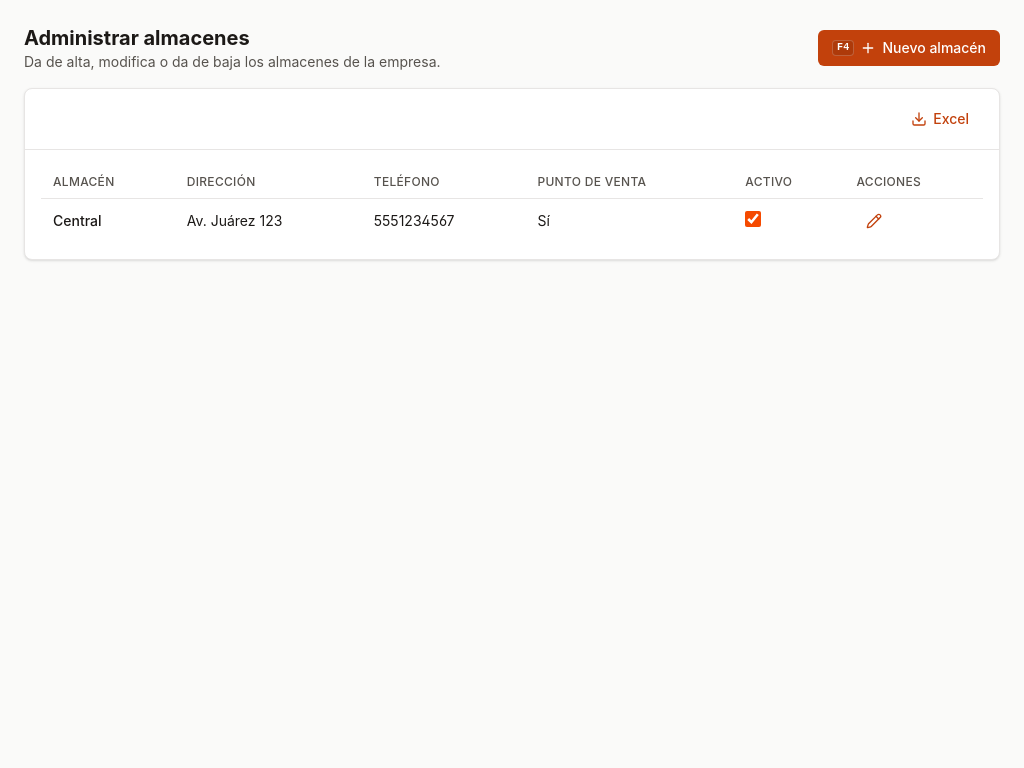
Test: AlmacenesAdminPage (smoke) › 'Nuevo almacén' abre el diálogo de alta
Check: the text "Central" is shown, box [53, 212, 102, 229]
Click the button "F4 Nuevo almacén". click: (909, 48)
box: [818, 30, 1000, 66]
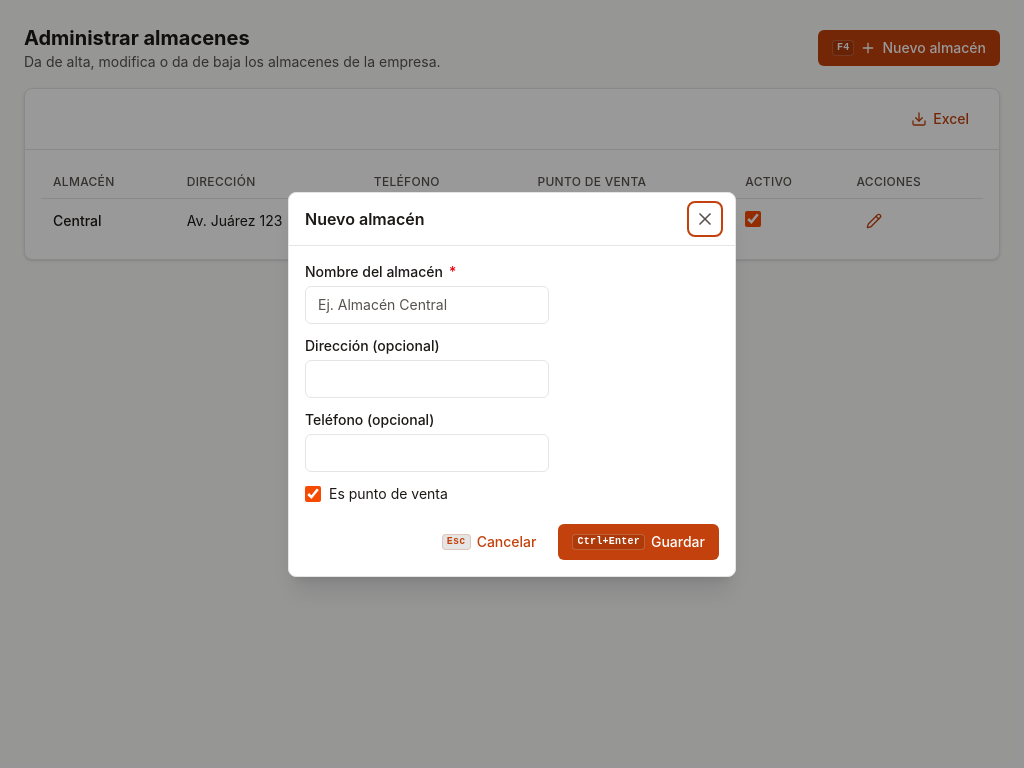
Check: the heading "Nuevo almacén" is shown, box [305, 206, 424, 230]
Check: the field labelled "Nombre del almacén *" is shown, box [305, 286, 549, 324]
